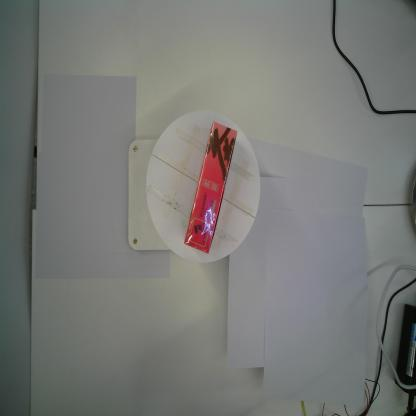Instant Drink: (184, 121, 237, 253)
